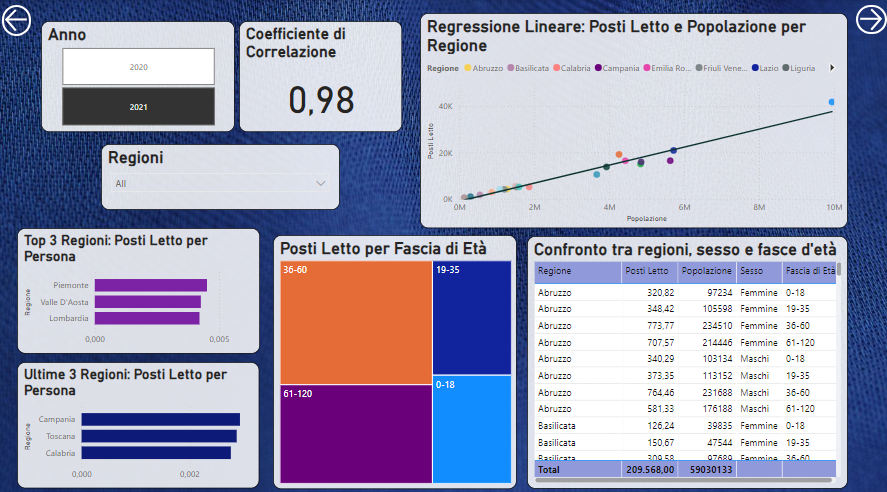

What the dashboard file says about the page in this screenshot:
{"tool":"powerbi","page":{"name":"Popolazione/Posti Letto","canvas":[1280,720],"ordinal":2},"visuals":[{"type":"scatterChart","title":"Regressione Lineare: Posti Letto e Popolazione per Regione","fields":{"X":["Measures (2).Popolazione"],"Series":["sanita regioni.nome"],"Y":["Measures (2).Posti Letto ALL"]},"box":[607.7,20.2,616.3,309.6],"z":0},{"type":"card","title":"Coefficiente di Correlazione","fields":{"Values":["Measures (2).popolazione and posti_letto correlation for nome"]},"box":[347,31.7,234.7,159.8],"z":1000},{"type":"slicer","title":"Anno","fields":{"Values":["Calendar.Year"]},"box":[61.9,31.7,279.4,159.8],"z":2000},{"type":"clusteredBarChart","title":"Top 3 Regioni: Posti Letto per Persona","fields":{"Category":["sanita regioni.nome"],"Y":["Measures (2).Posti lettto per persona"]},"box":[27.4,329.8,349.9,181.4],"z":3000},{"type":"slicer","title":"Regioni","fields":{"Values":["sanita regioni.nome"]},"box":[148.3,208.8,344.2,95],"z":4000},{"type":"treemap","title":"Posti Letto per Fascia di Età","fields":{"Values":["Measures (2).Posti Letto ALL"],"Group":["fact sanita popolazione.fascia"]},"box":[396,339.8,351.4,365.8],"z":5000},{"type":"clusteredBarChart","title":"Ultime 3 Regioni: Posti Letto per Persona","fields":{"Category":["sanita regioni.nome"],"Y":["Measures (2).Posti lettto per persona"]},"box":[27.3,523.2,349.4,182.4],"z":6000},{"type":"tableEx","title":"Confronto tra regioni, sesso e fasce d''età","fields":{"Values":["sanita regioni.nome","Measures (2).Posti Letto ALL","Measures (2).Popolazione","fact sanita popolazione.Sesso","fact sanita popolazione.Fascia Eta'"]},"box":[761.8,341.3,462.2,364.3],"z":7000},{"type":"actionButton","box":[5.8,8.6,41.8,44.6],"z":7001},{"type":"actionButton","box":[1235.5,8.6,44.6,41.8],"z":7002}]}

Visuals, with their boxes in screenshot pixels (x1, y1, x2, y2), scaled from the page's 1280x720 canvas onto the 887x492 screenshot:
"Regressione Lineare: Posti Letto e Popolazione per Regione" scatterChart: region(421, 14, 848, 225)
"Coefficiente di Correlazione" card: region(240, 22, 403, 131)
"Anno" slicer: region(43, 22, 237, 131)
"Top 3 Regioni: Posti Letto per Persona" clusteredBarChart: region(19, 225, 261, 349)
"Regioni" slicer: region(103, 143, 341, 208)
"Posti Letto per Fascia di Età" treemap: region(274, 232, 518, 482)
"Ultime 3 Regioni: Posti Letto per Persona" clusteredBarChart: region(19, 358, 261, 482)
"Confronto tra regioni, sesso e fasce d''età" tableEx: region(528, 233, 848, 482)
actionButton: region(4, 6, 33, 36)
actionButton: region(856, 6, 886, 34)
